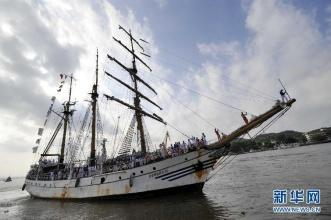fanchuan: (22, 25, 294, 203)
